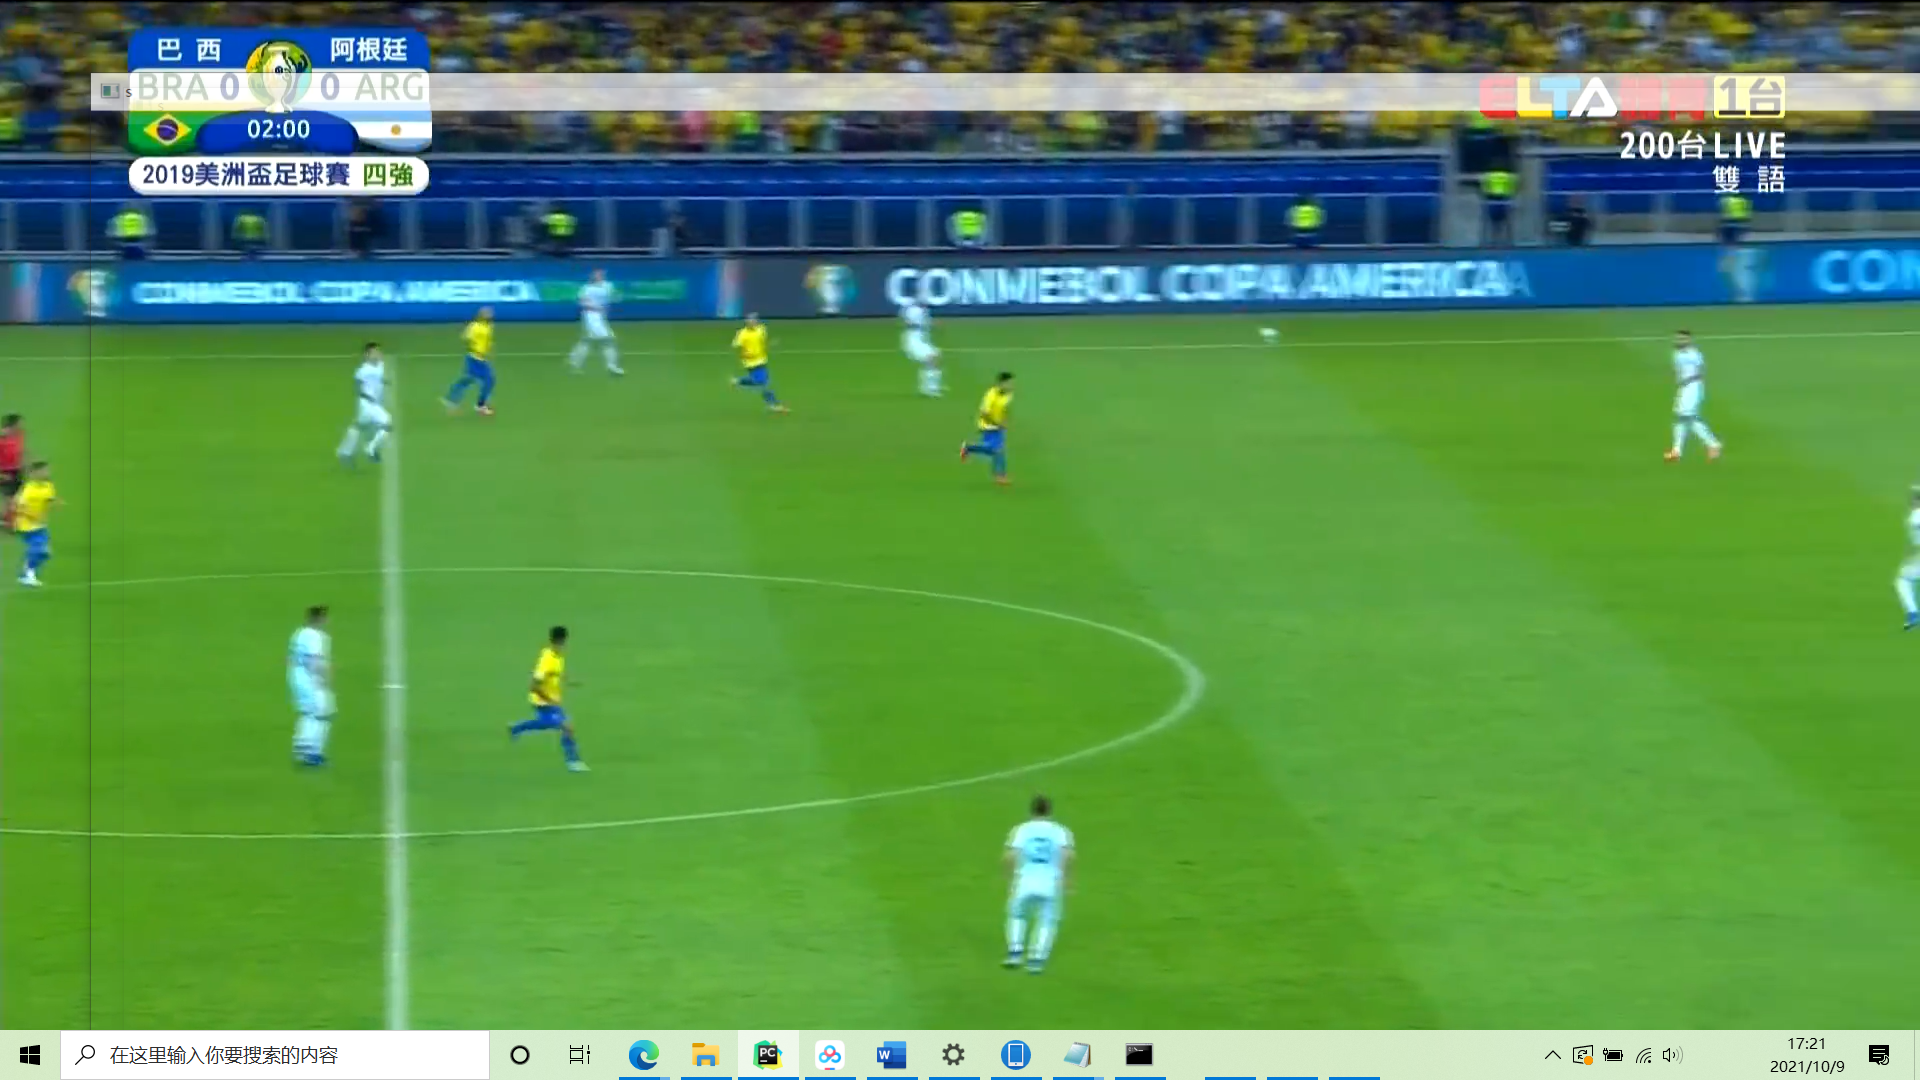ft: (1253, 320, 1280, 343)
